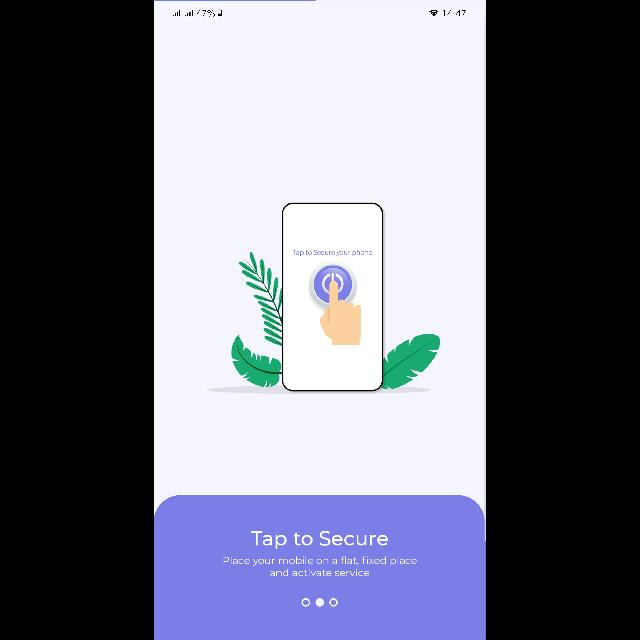image: (208, 202, 440, 394)
pageindicator: (302, 598, 338, 606)
text: (224, 556, 416, 576), (252, 531, 388, 549)
uppertaskbar: (172, 10, 466, 16)
